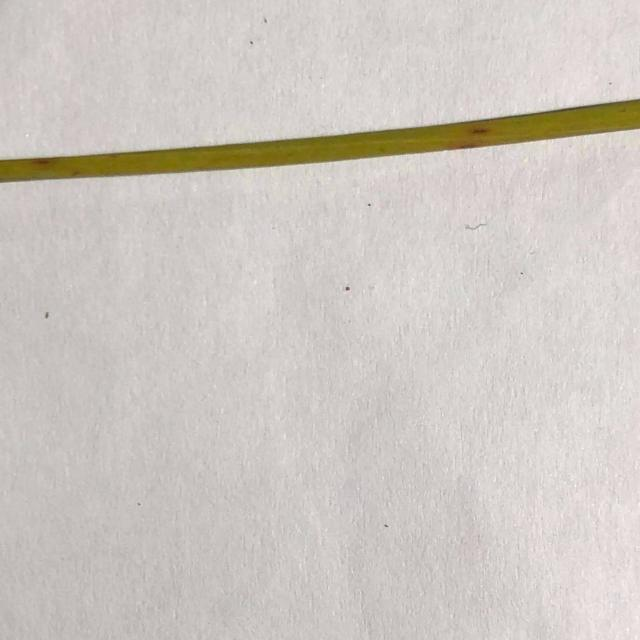brownspots: (446, 116, 497, 156), (24, 150, 62, 174)
